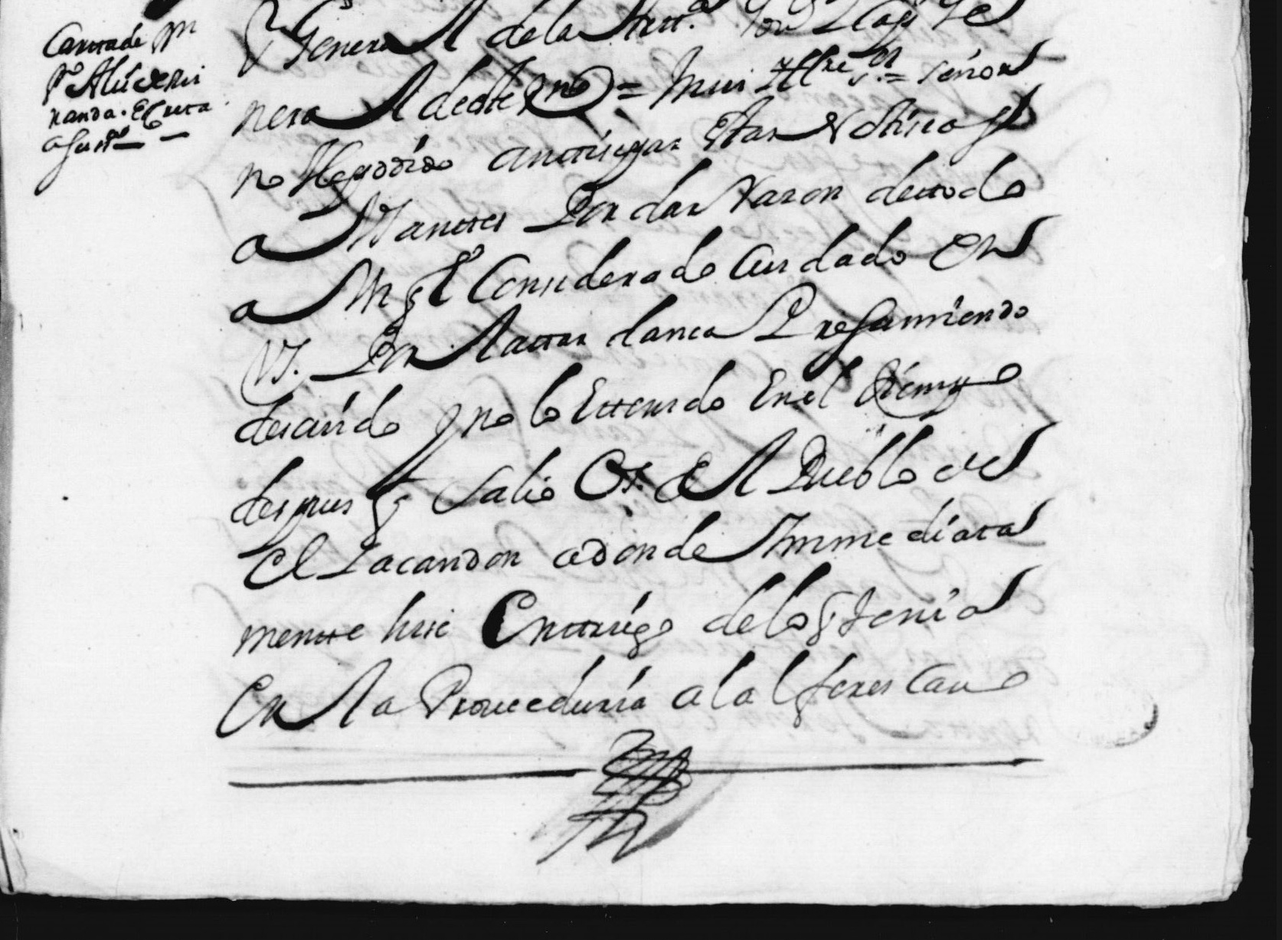lacandon: (316, 542, 521, 579)
